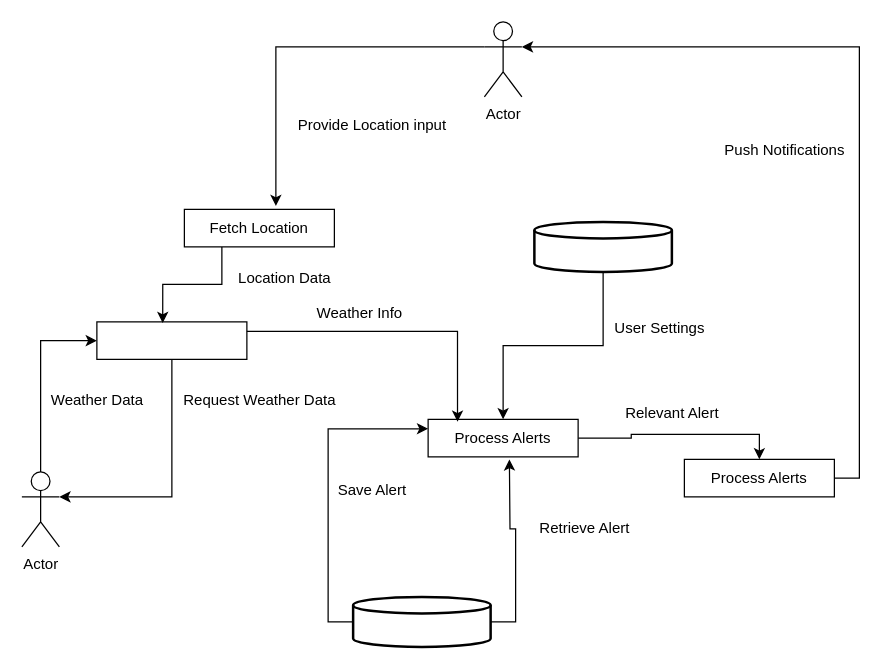
The diagram is 891 pixels wide and 670 high, and some of its shapes have lost their labels. The centre of each missing label's shape, as x and y in pixels:
Alert Database: (x=421, y=621)
Fetch weather Data: (x=171, y=340)
user Perferences: (x=602, y=246)
